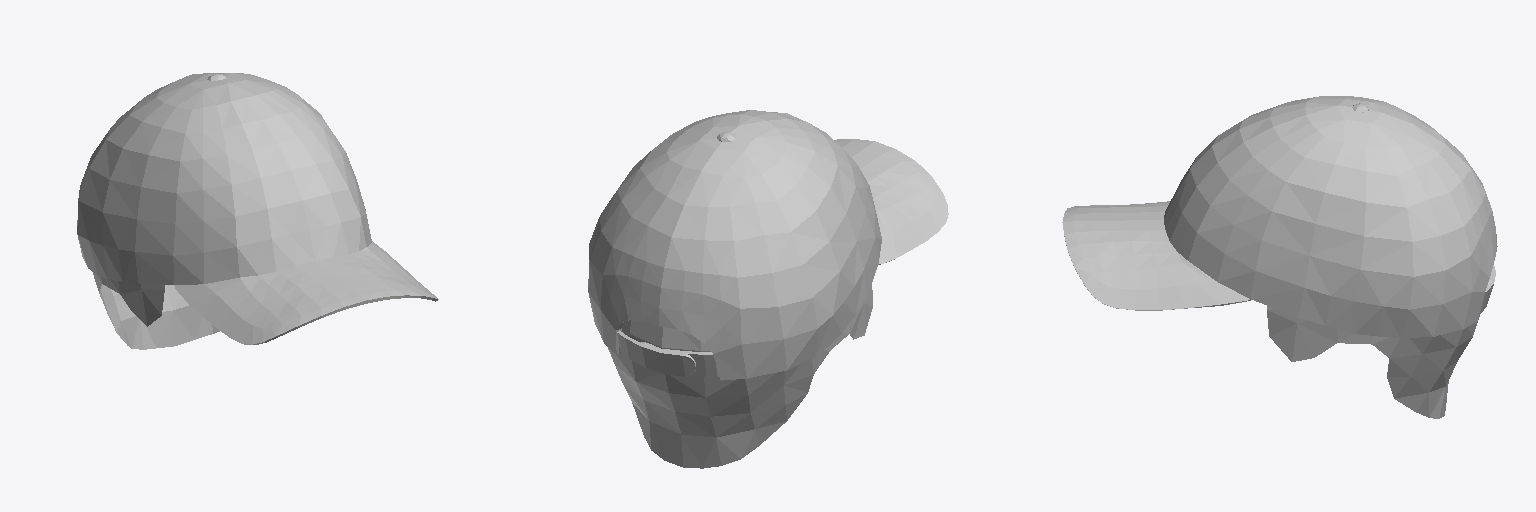
File: BaseballHat_Hair_03.obj
3 renders of one model, left to right at view 1: azimuth 30°, elevation 25°; view 2: azimuth 150°, elevation 25°; view 3: azimuth 270°, elevation 25°, orthographic.
Bounding box in the file's own units: 16.19 × 20.19 × 26.27.